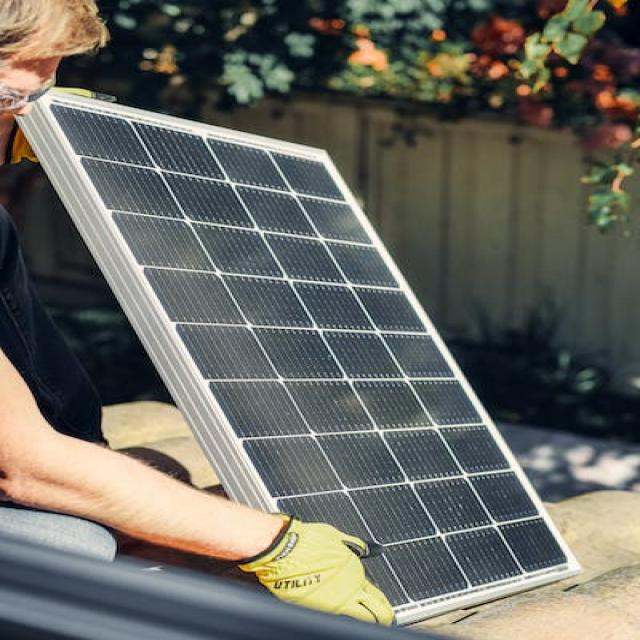no faulty: (51, 104, 581, 620)
